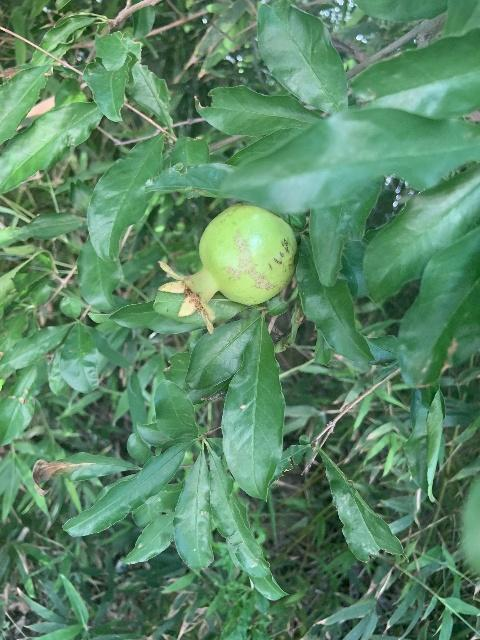mid-growth: (156, 203, 296, 336)
